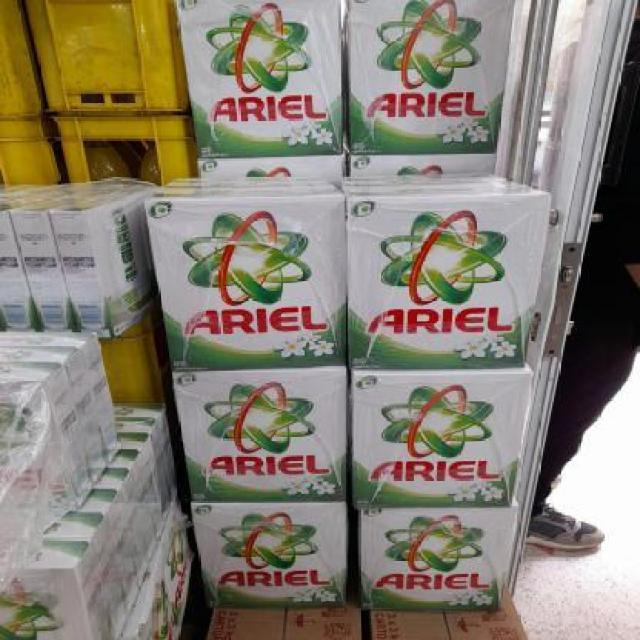Detergent: (144, 195, 342, 367), (349, 195, 523, 371), (173, 0, 342, 157), (351, 368, 525, 504), (345, 0, 499, 152), (169, 373, 343, 502), (189, 502, 345, 606), (358, 508, 496, 612)
